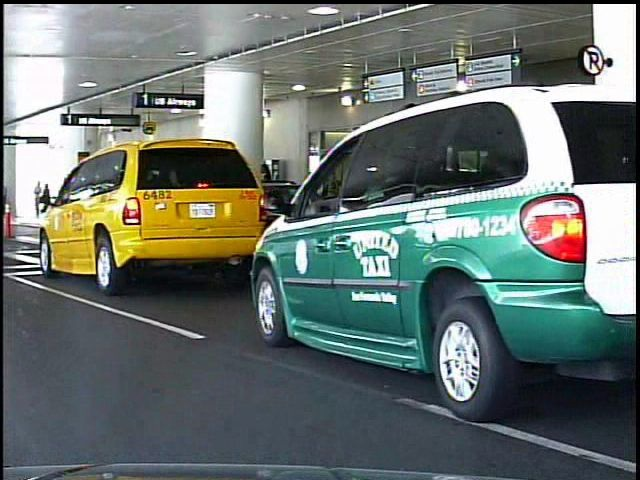person: (44, 180, 58, 220), (2, 183, 15, 217), (35, 180, 46, 219)
